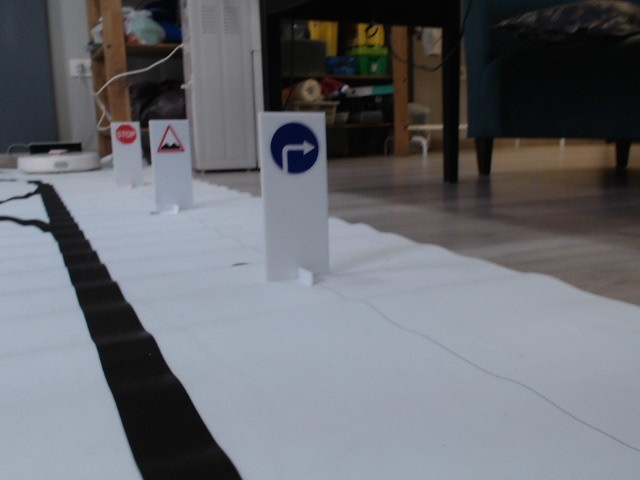Nerov: (155, 123, 186, 153)
Right: (270, 121, 320, 174)
Stop: (115, 124, 137, 145)
